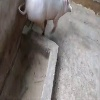heo: (14, 1, 79, 35)
